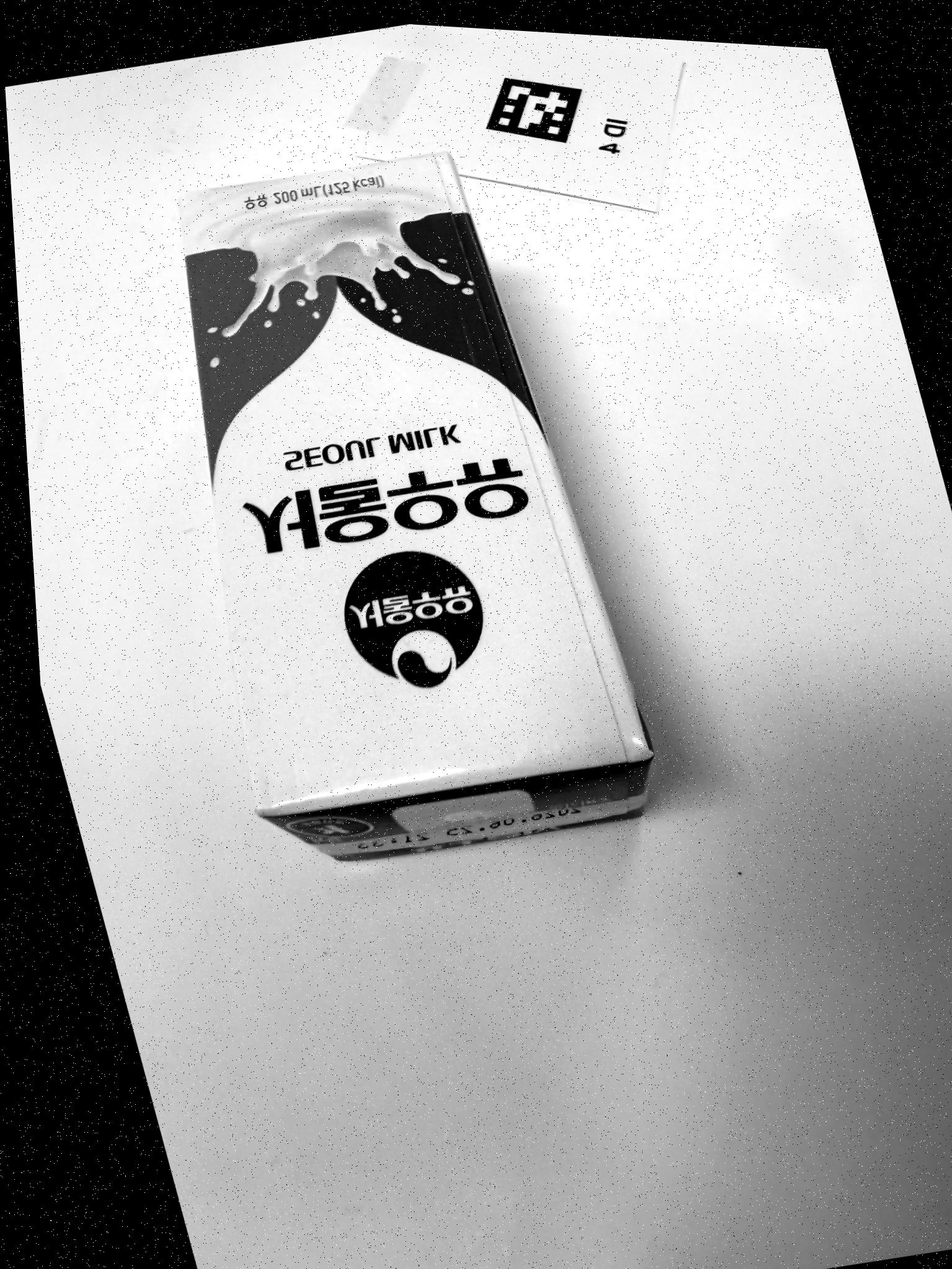milk_green: (182, 154, 652, 860)
